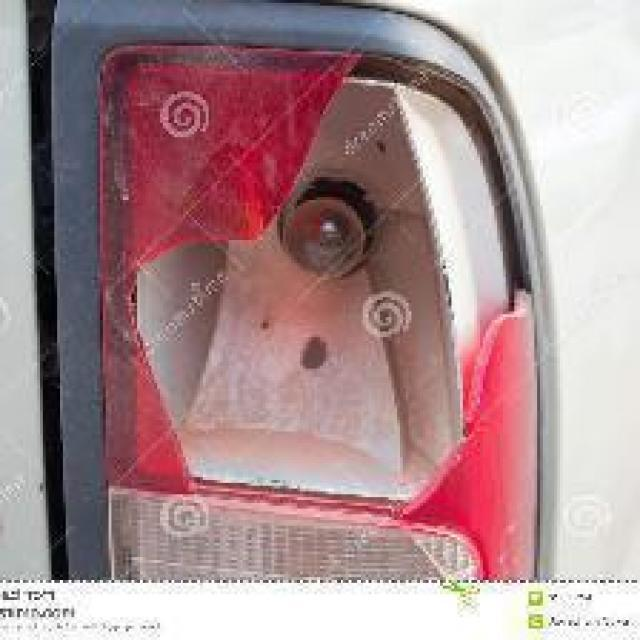damaged: (128, 57, 528, 529)
